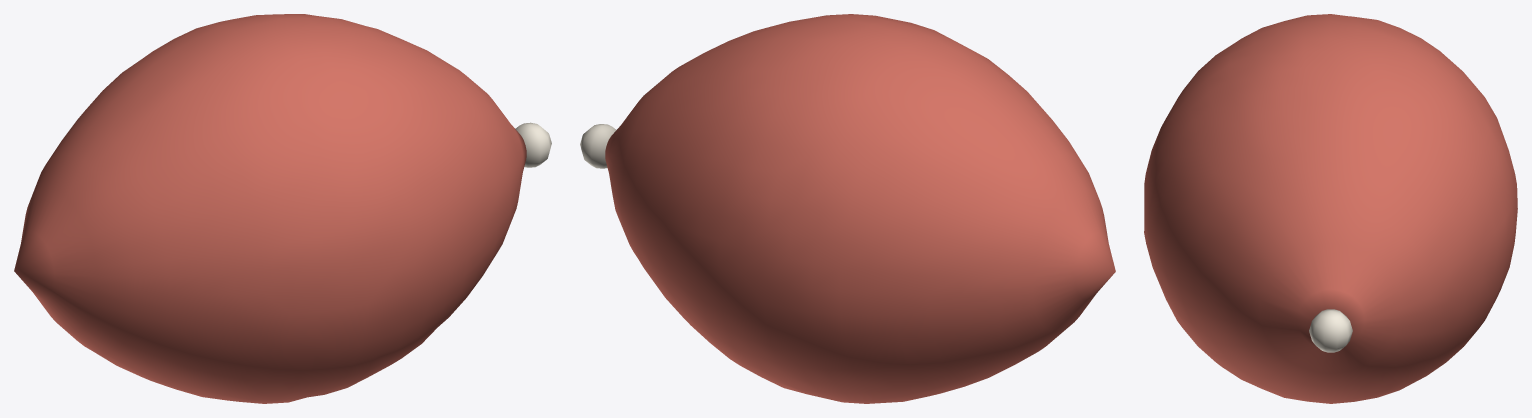
File: food_lemon.glb
3 renders of one model, left to right at view 1: azimuth 30°, elevation 25°; view 2: azimuth 150°, elevation 25°; view 3: azimuth 270°, elevation 25°, orthographic. The views are drawn at different scales.
Visible parts, largest first — view 1: PART; view 2: PART; view 3: PART.
Part boxes in pixels (<box>): PART: <box>14,14,551,403</box>; PART: <box>580,14,1115,403</box>; PART: <box>1144,14,1517,403</box>.
Size of the model in its own units: 0.0953 by 0.06 by 0.0596.
